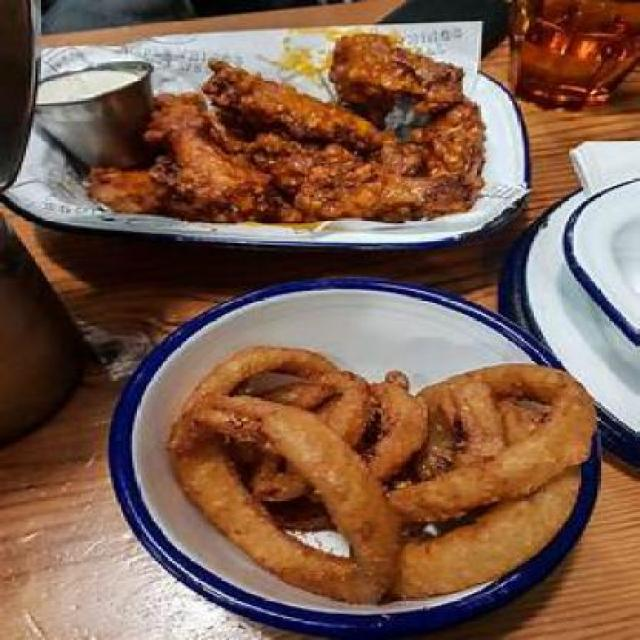chicken wings: (80, 37, 511, 246)
onion rings: (146, 321, 612, 607)
